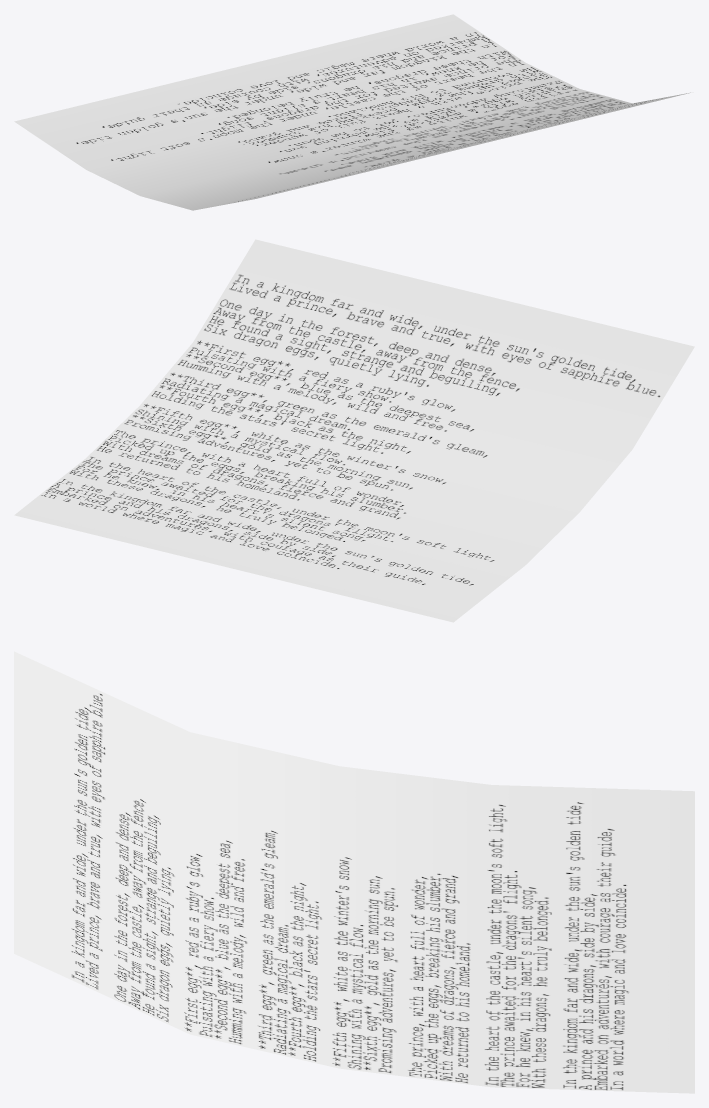
File: paper.glb
3 renders of one model, top to bottom at view 1: azimuth 30°, elevation 25°; view 2: azimuth 150°, elevation 25°; view 3: azimuth 270°, elevation 25°, orthographic. The views are drawn at different scales.
Visible parts, largest first — view 1: Plane; view 2: Plane; view 3: Plane.
Boxes of the visible parts, <box> form: Plane: <box>14,14,690,210</box>; Plane: <box>14,239,694,622</box>; Plane: <box>14,651,694,1093</box>.
Size of the model in its own units: 14.4 by 3.11 by 13.7.
1 material, 1 textured.
